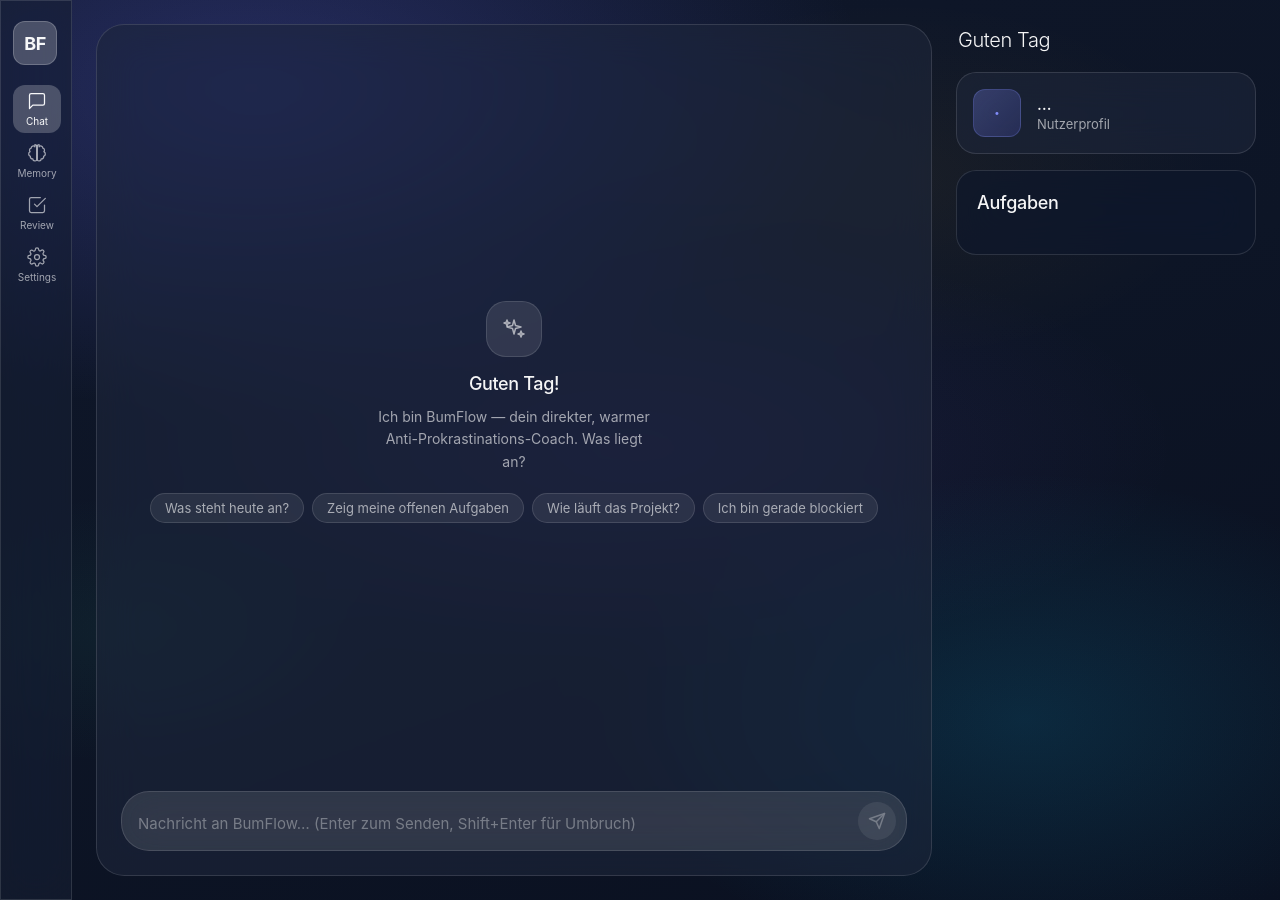
rail nav switches to Memory empty-state and back to Chat
Click the button "Memory" at (37, 161), box [13,137,61,185]
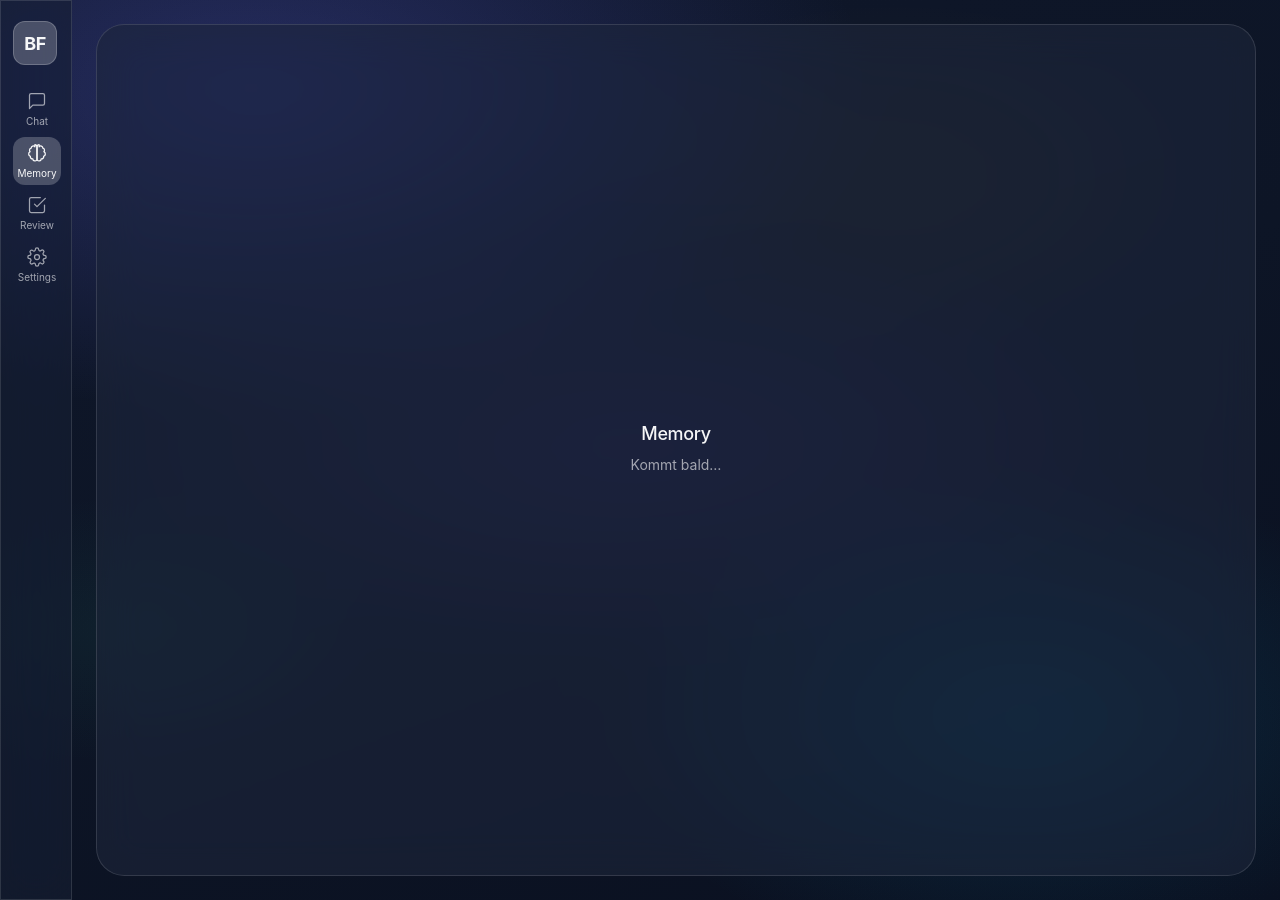
Expected: the heading "Memory" is shown, [641,423,711,444]
Expected: the text box labelled "Nachricht" is gone
Click the button "Chat" at (37, 109), box [13,85,61,133]
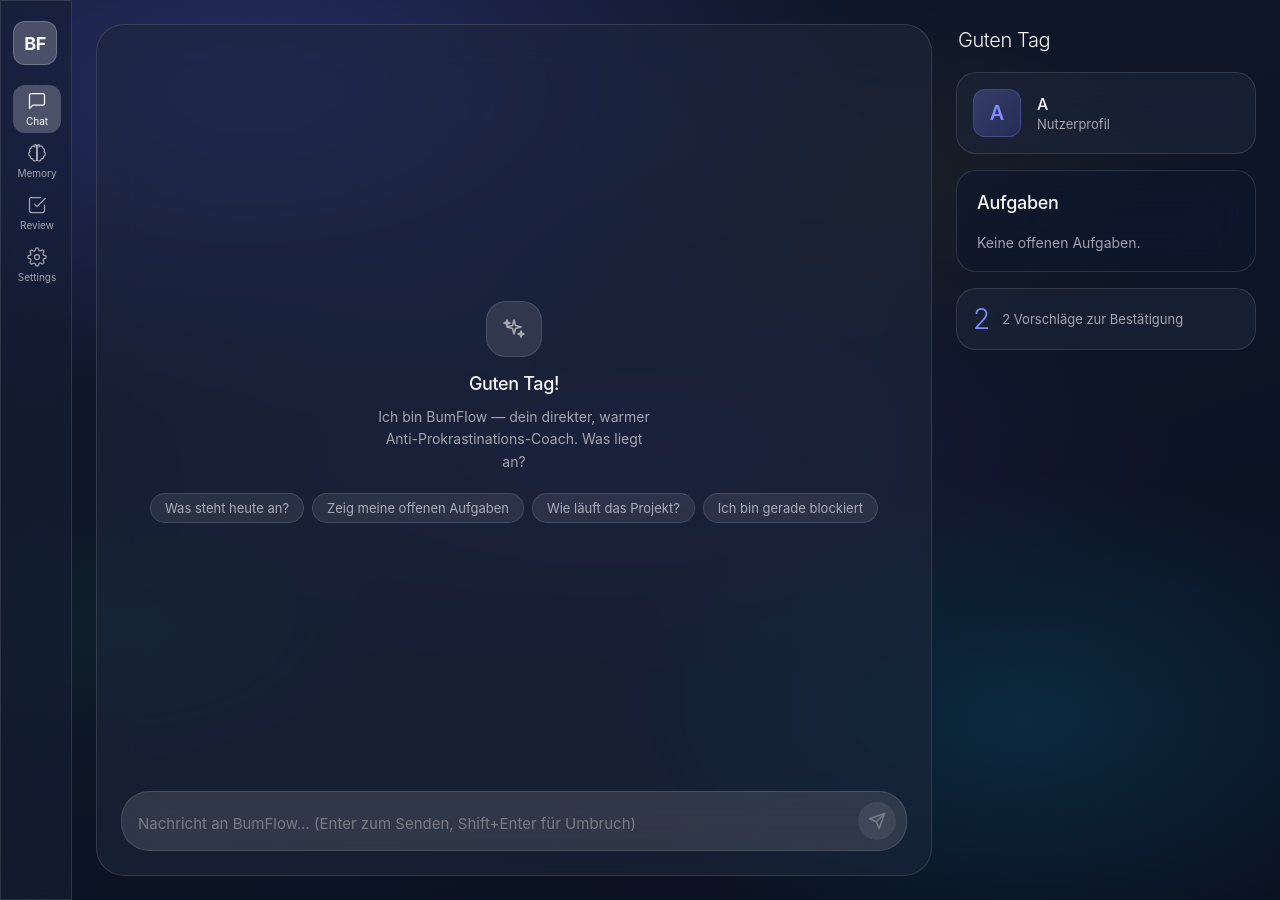
Expected: the text box labelled "Nachricht" is shown, [138,809,848,840]
